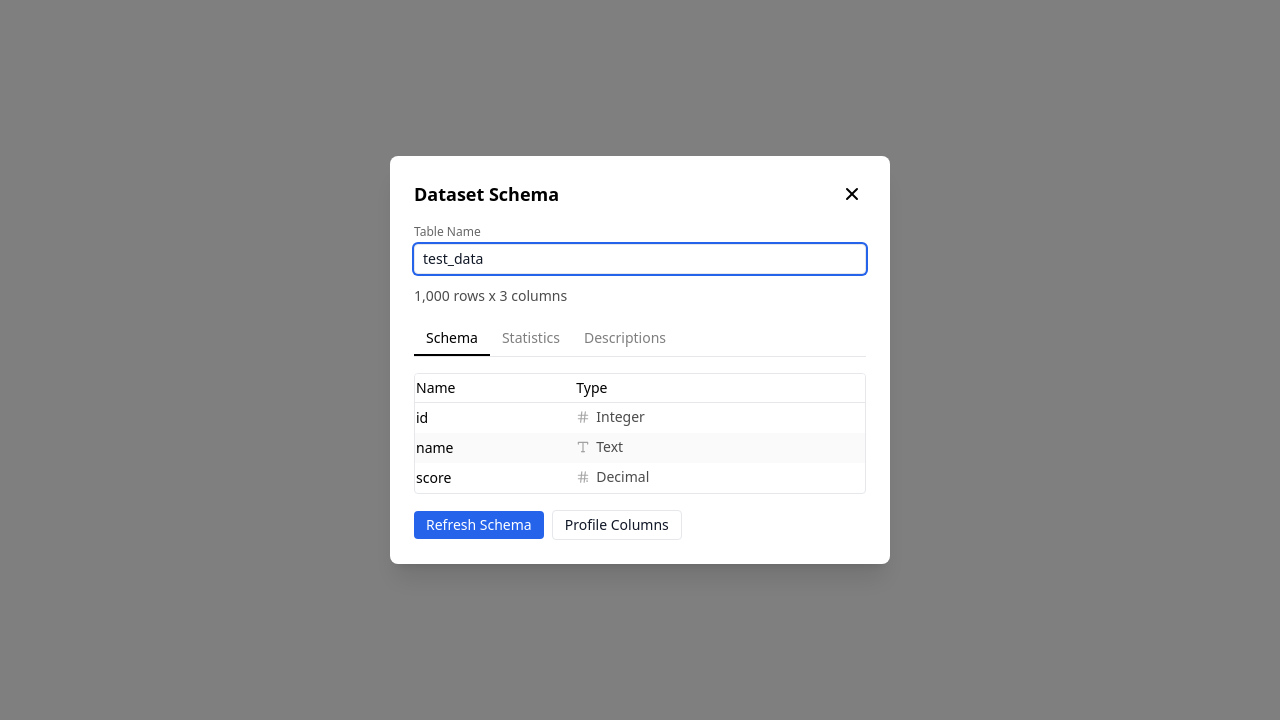
Test case: SM-STATS-TAB-1: Tab switching between Schema and Statistics › switches back to Schema tab from Statistics
This screenshot has width=1280, height=720.
Note: Switch to stats
Step 1. Click the button with test id "schema-tab-stats" → (531, 339), box top-left (490, 322), bottom-right (572, 356)
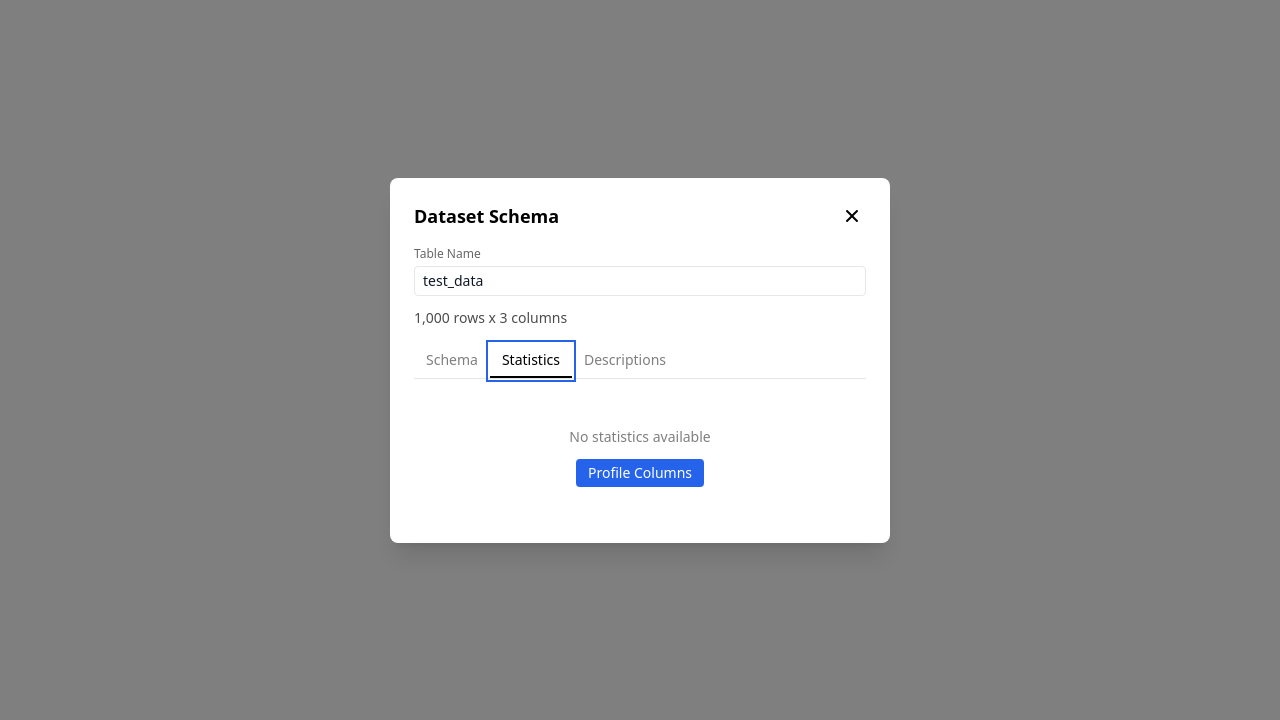
Check: the element with test id "stats-tab-content" is shown, box top-left (569, 426), bottom-right (711, 486)
Note: Switch back to schema
Step 2. Click the button with test id "schema-tab-schema" → (452, 360), box top-left (414, 344), bottom-right (490, 378)
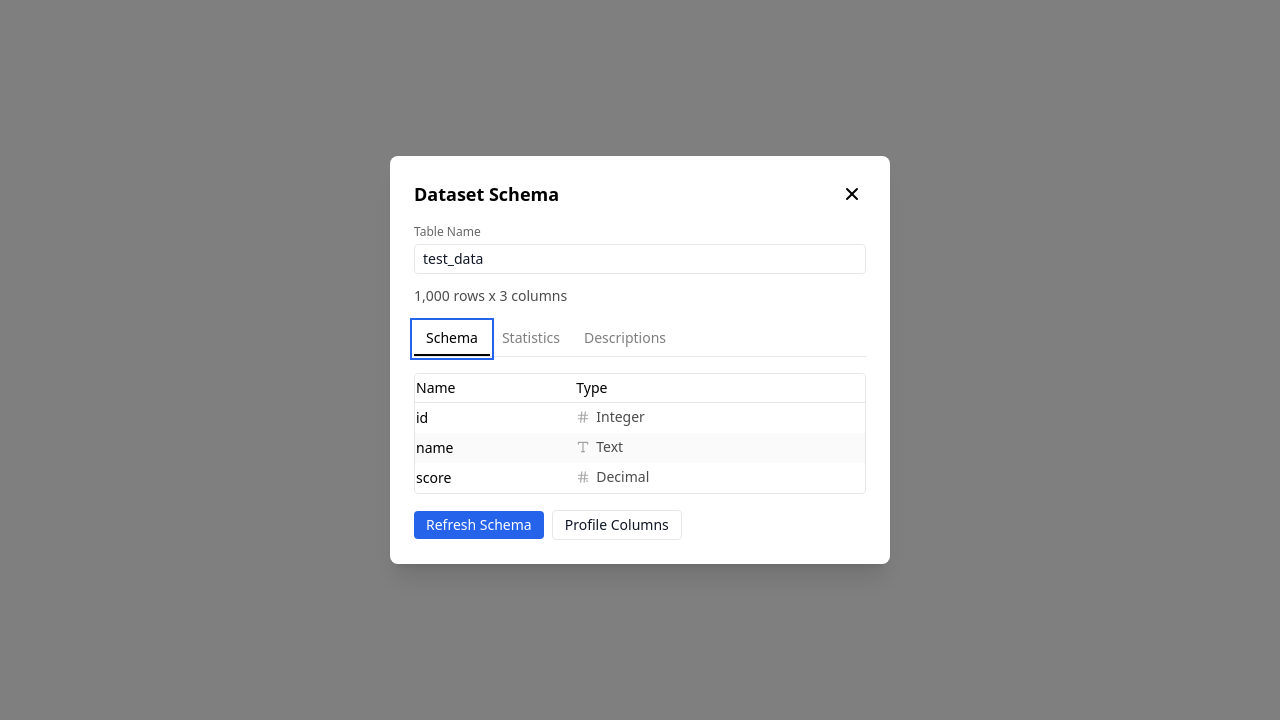
Check: the element with test id "schema-column-table-container" is shown, box top-left (414, 373), bottom-right (866, 494)
Check: the element with test id "stats-tab-content" is gone
